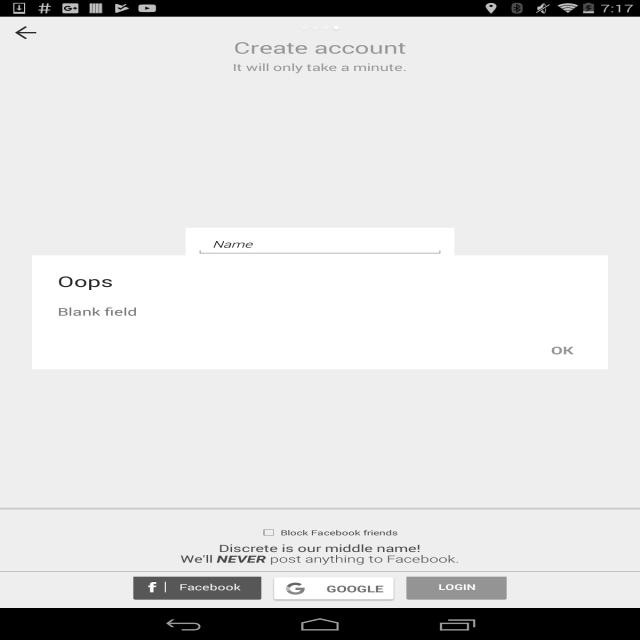Button: (270, 575, 398, 602), (134, 574, 262, 600)
EditText: (200, 231, 440, 254), (200, 276, 440, 299), (200, 299, 440, 322), (200, 254, 440, 276)
ImageButton: (0, 16, 51, 48)
ImageView: (0, 17, 640, 608), (0, 571, 640, 608), (242, 516, 296, 549), (0, 507, 640, 509), (309, 25, 320, 31), (320, 25, 331, 31), (299, 25, 309, 31), (331, 25, 341, 31), (0, 571, 640, 571)
TextView: (180, 552, 459, 566), (233, 37, 406, 58), (218, 541, 420, 555), (406, 574, 507, 600), (232, 60, 407, 74), (534, 340, 591, 364), (58, 304, 137, 319), (58, 271, 113, 291), (280, 528, 398, 537), (384, 338, 437, 358)
